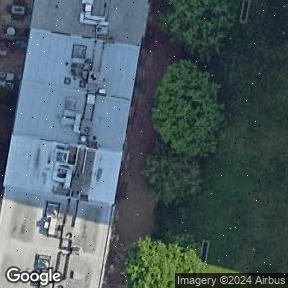vegetation: (124, 52, 239, 213), (126, 237, 203, 288)
